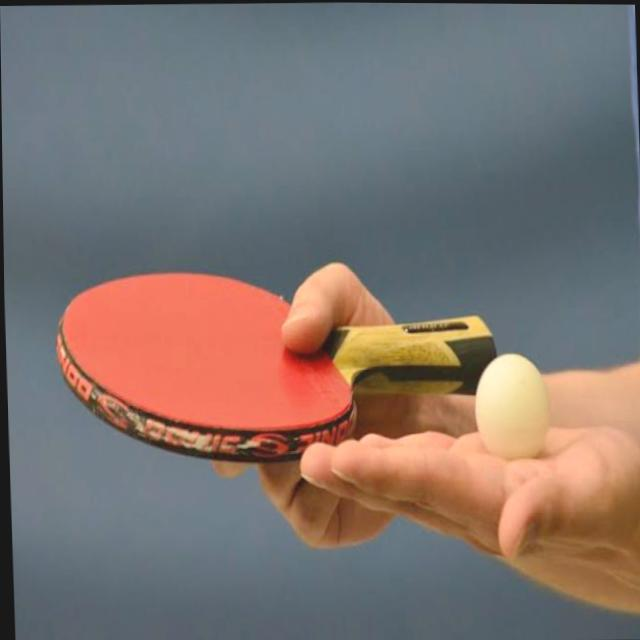TT Racket: (22, 239, 402, 490)
